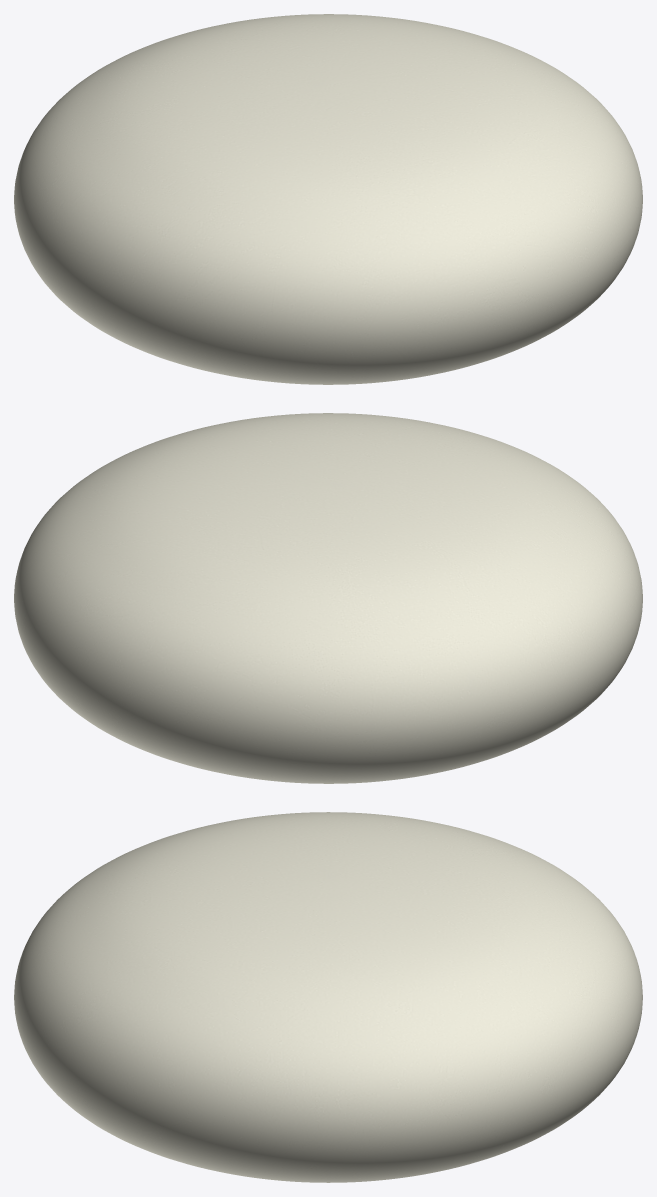
The model's file is Mentos3D.fbx.
3 views of the same model, one above another, from view 1: azimuth 30°, elevation 25°; view 2: azimuth 150°, elevation 25°; view 3: azimuth 270°, elevation 25° (orthographic).
Parts seen in each view (by area): view 1: Sphere001; view 2: Sphere001; view 3: Sphere001.
Boxes of the visible parts, box(x1,y1,x2,y2) form: Sphere001: box(14, 14, 642, 384); Sphere001: box(14, 413, 642, 783); Sphere001: box(14, 812, 642, 1182).
Bounding box in the file's own units: 76.46 × 31.28 × 76.46.
Materials: 1 (1 with a texture image).
